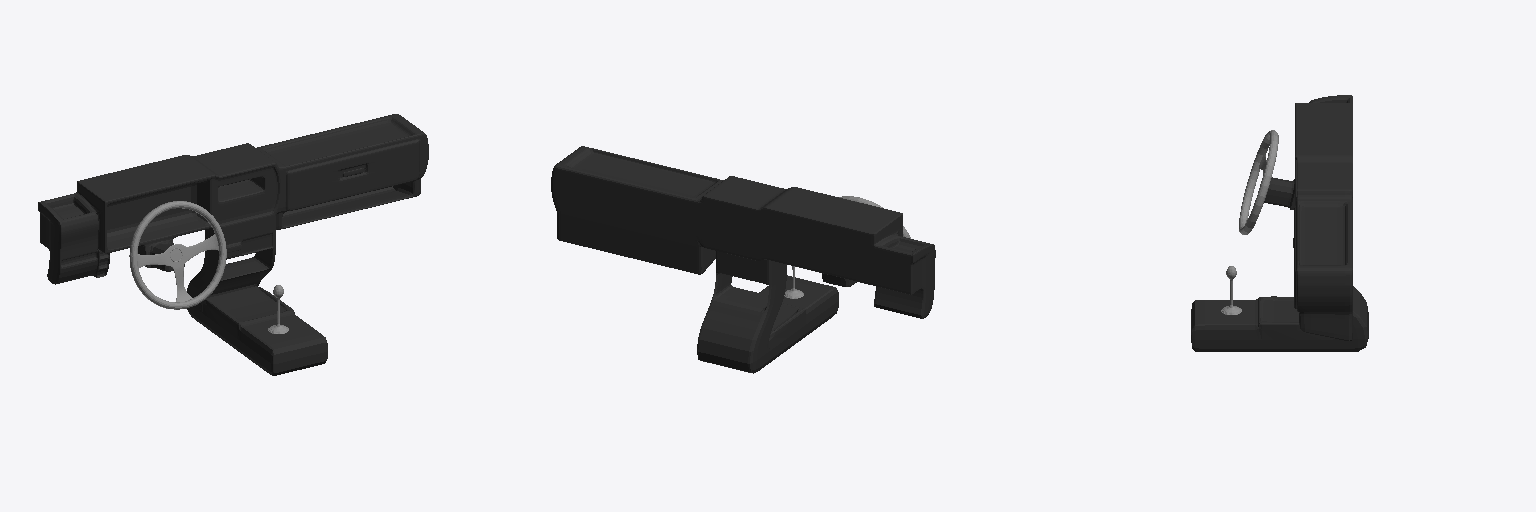
Rendered from panel.obj.
3 views of the same model, side by side, from view 1: azimuth 30°, elevation 25°; view 2: azimuth 150°, elevation 25°; view 3: azimuth 270°, elevation 25° (orthographic).
Visible parts, largest first — view 1: Cubo, Círculo; view 2: Cubo; view 3: Cubo, Círculo.
Boxes of the visible parts, x1,y1,x2,y2 form: Cubo: [38, 114, 428, 375]; Círculo: [129, 201, 226, 309]; Cubo: [551, 146, 935, 373]; Cubo: [1191, 95, 1368, 351]; Círculo: [1239, 130, 1278, 234].
Bounding box in the file's own units: 6.73 × 2.95 × 2.84.